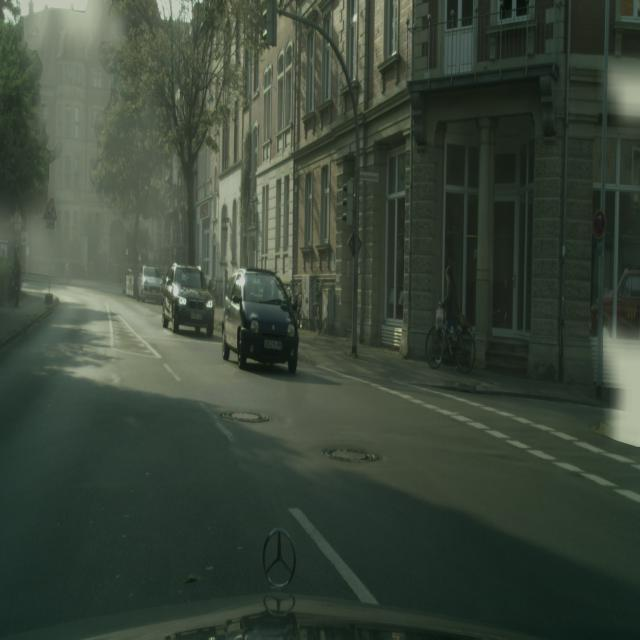car: (425, 304, 476, 372)
person: (440, 264, 460, 358), (11, 245, 21, 308)
truck: (221, 268, 299, 374), (161, 261, 215, 337), (589, 268, 640, 336), (138, 265, 163, 302)
